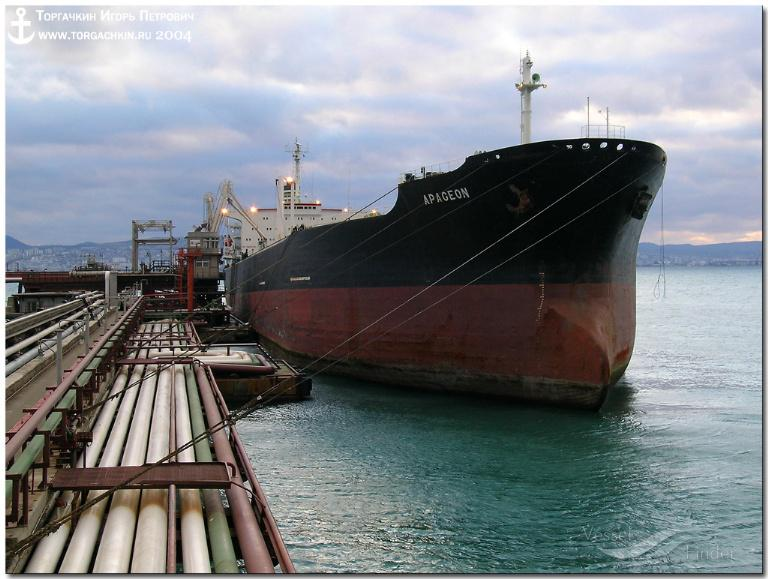OCR: (410, 186, 476, 214)
